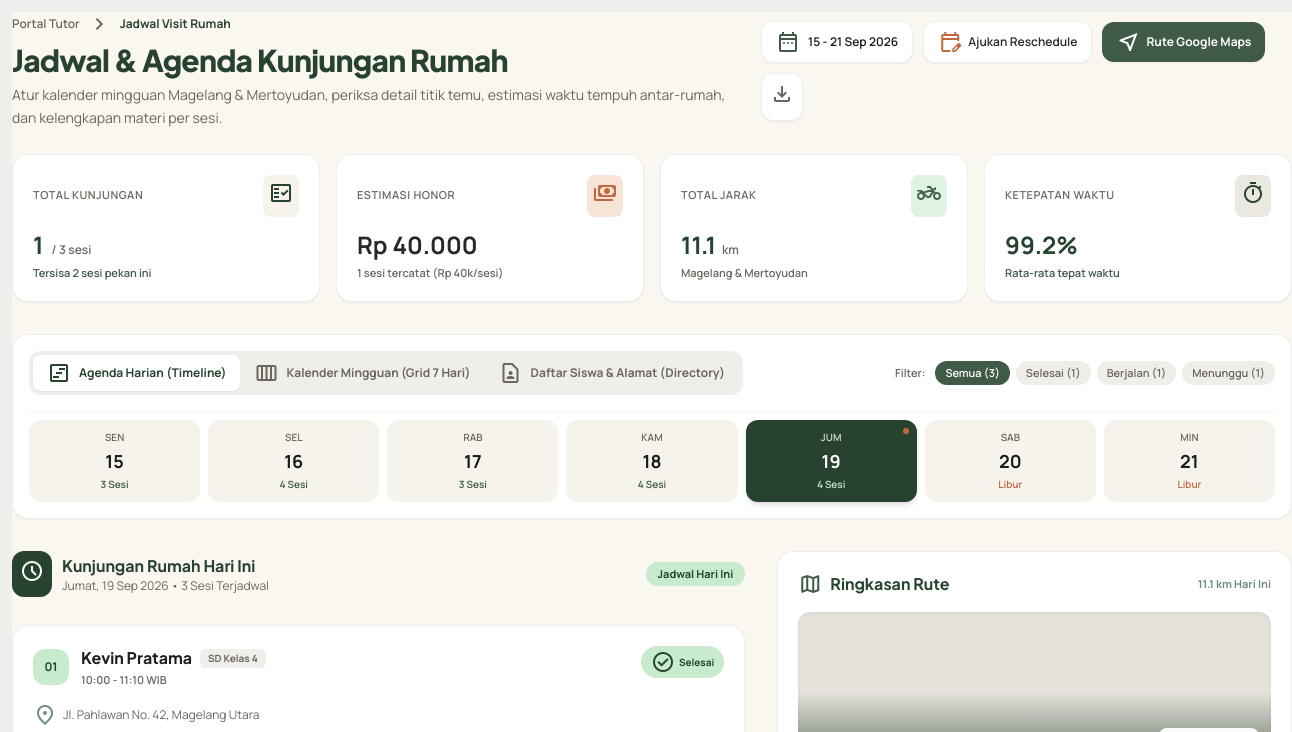
Test: TutorVisitSchedule Component (SQA-ISTQB & TDD) › TC-TVS-002: allows switching active day from 7-day strip
Click the button "Sen 15 3 Sesi": x=115, y=461 [29,420,200,502]
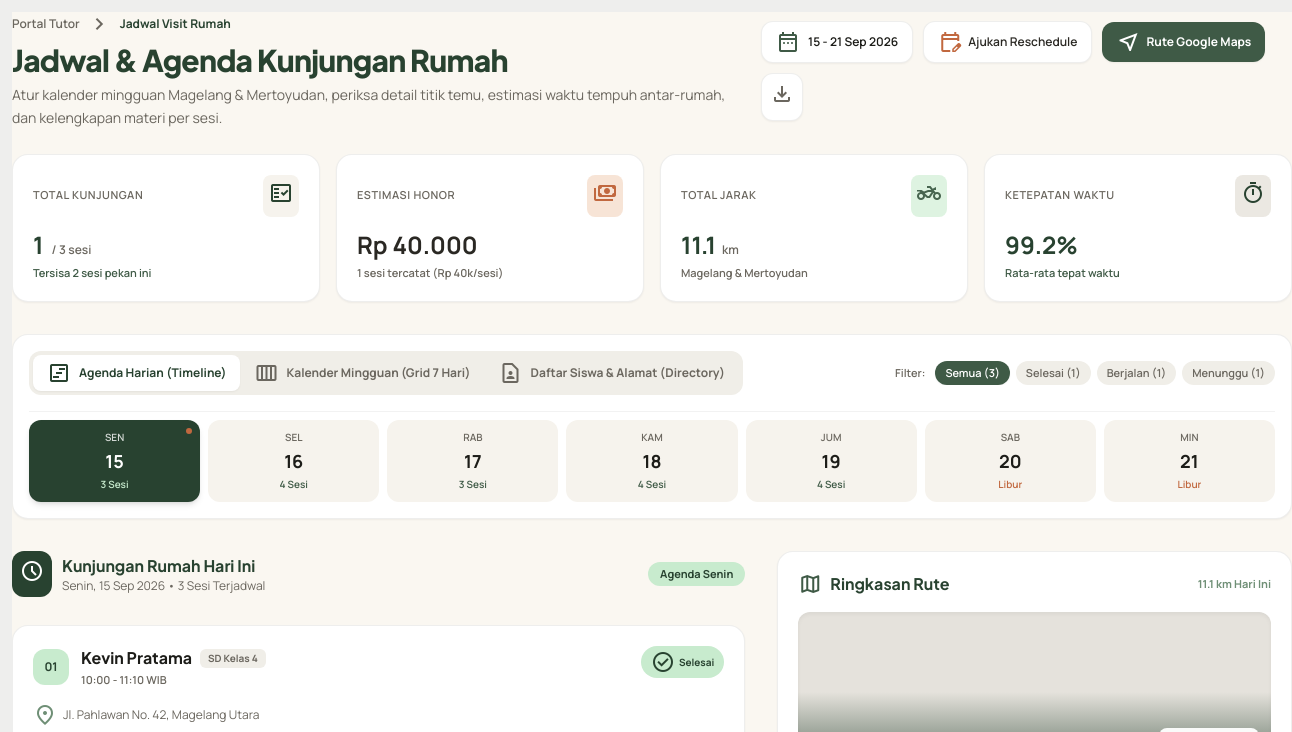
expect the text "Agenda Senin" is shown: met, box [648,562,745,586]
